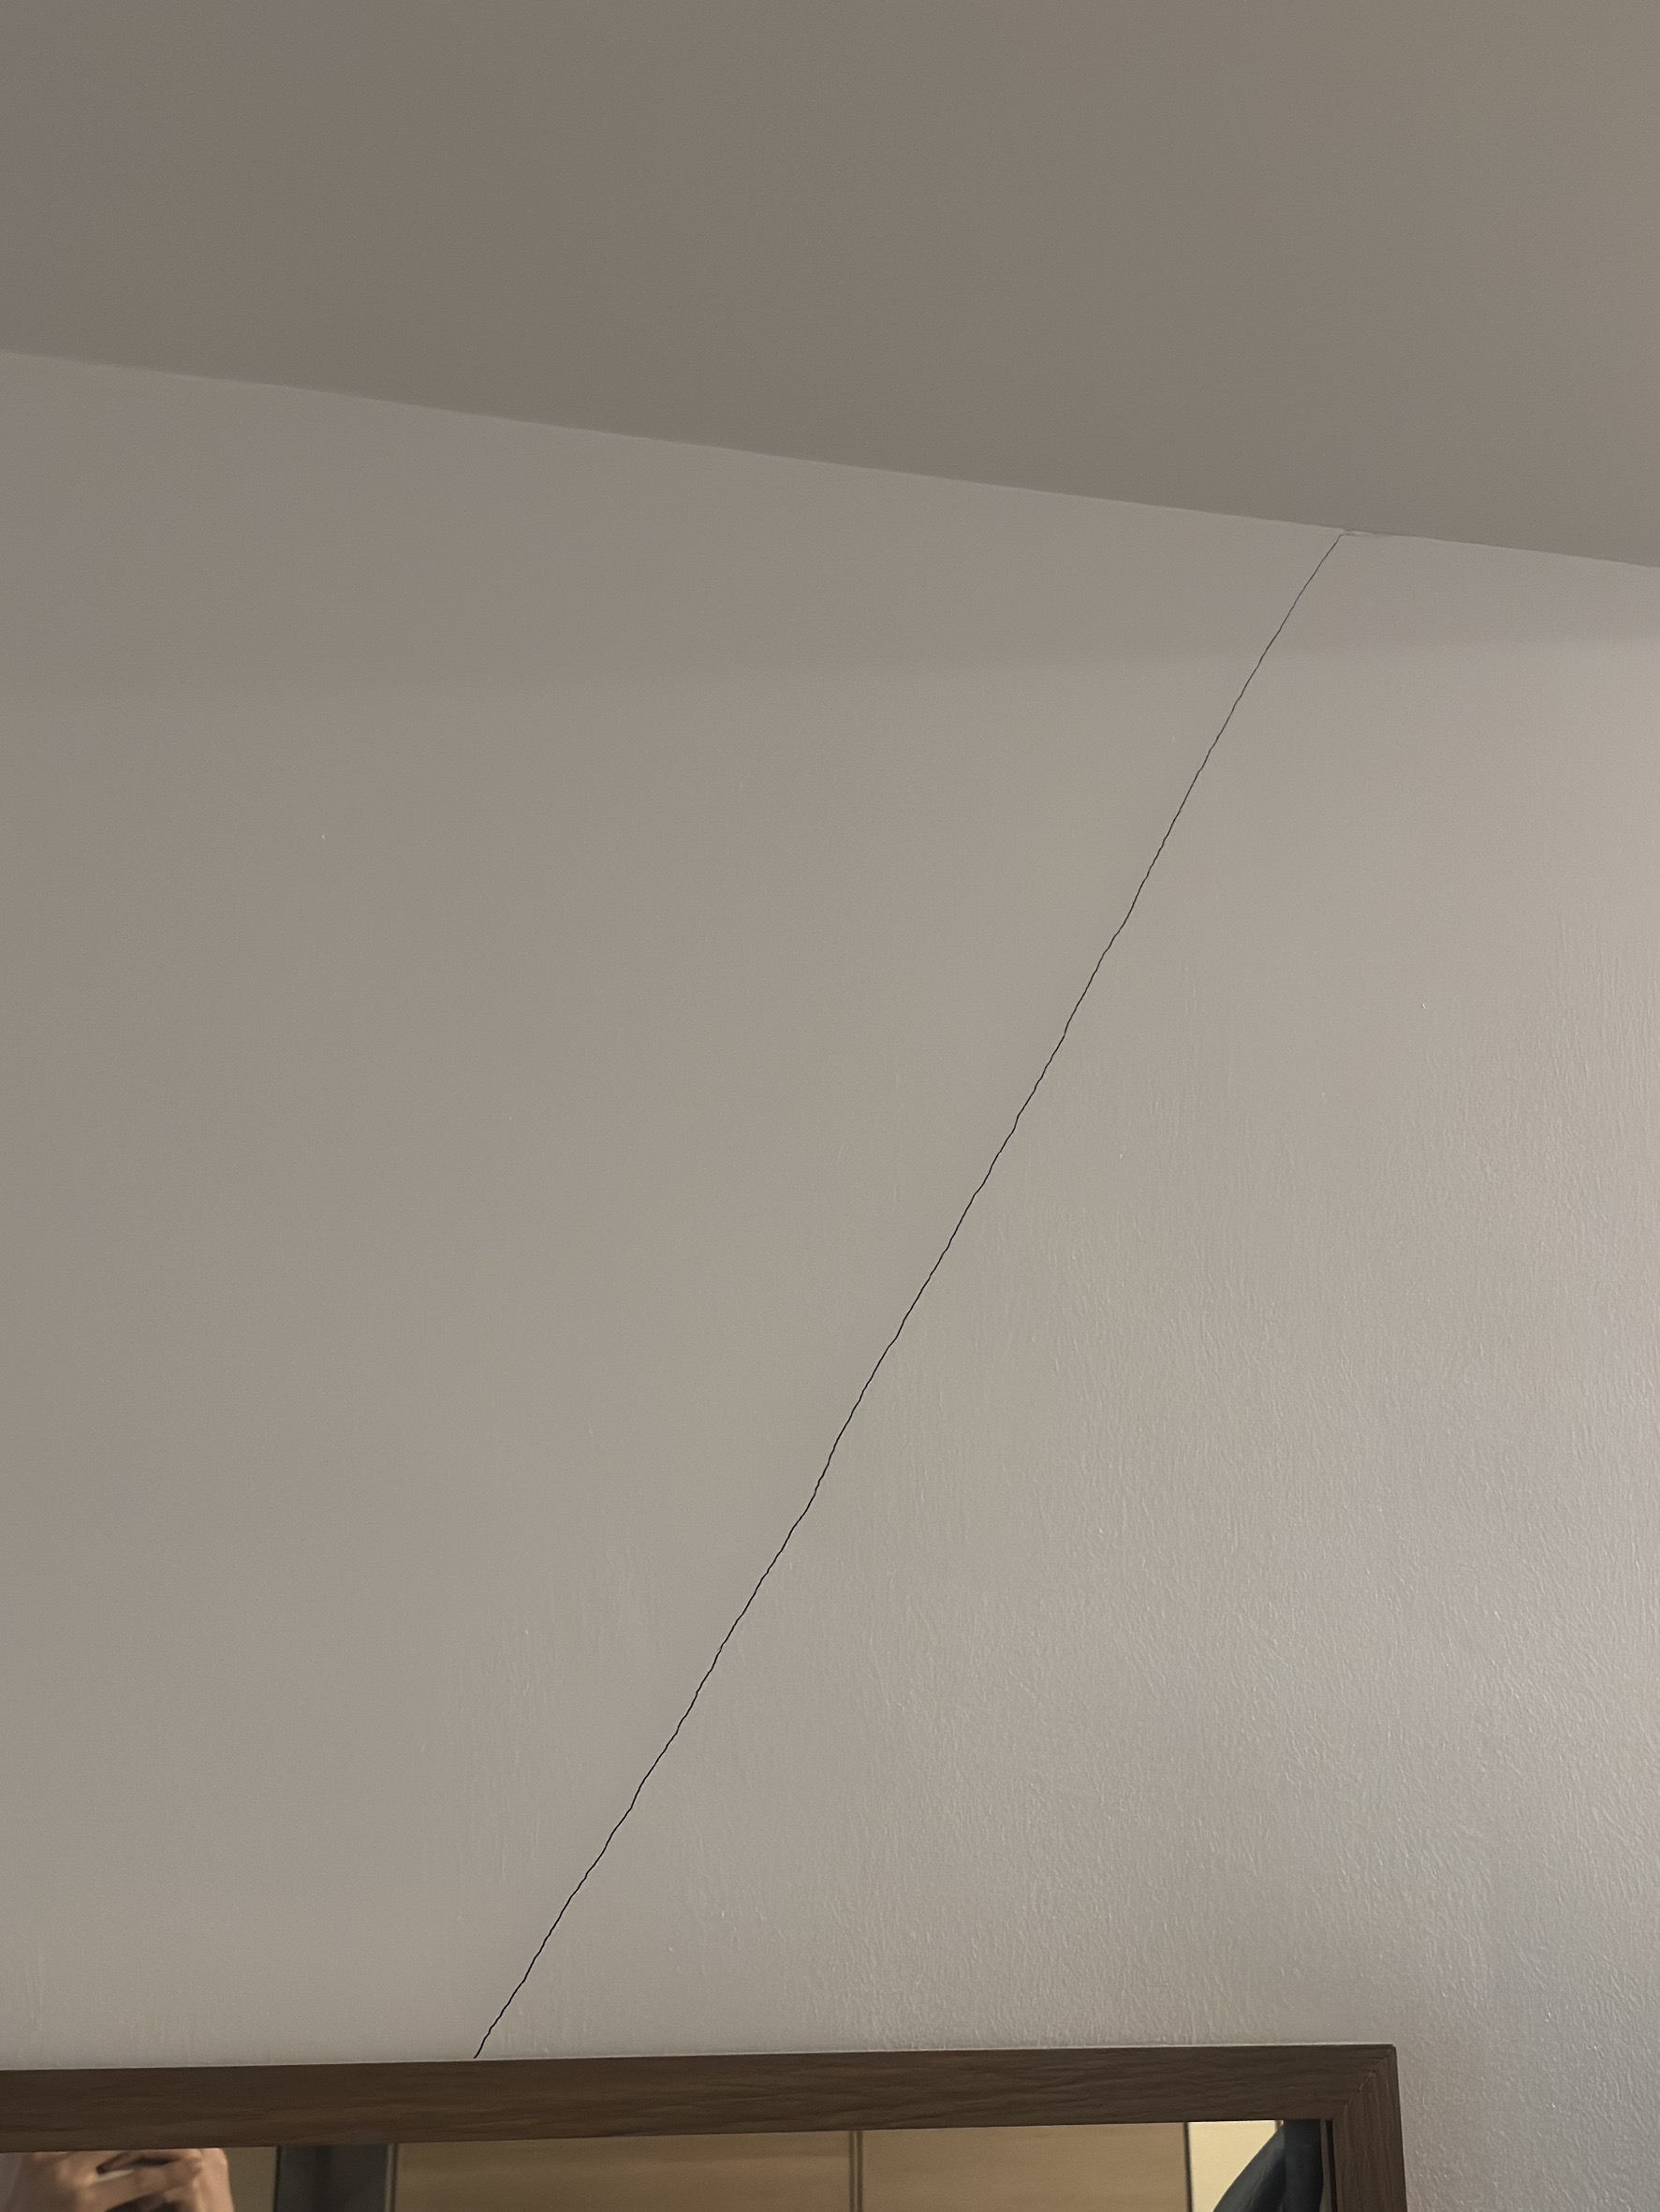Low: (443, 493, 1404, 2074)
